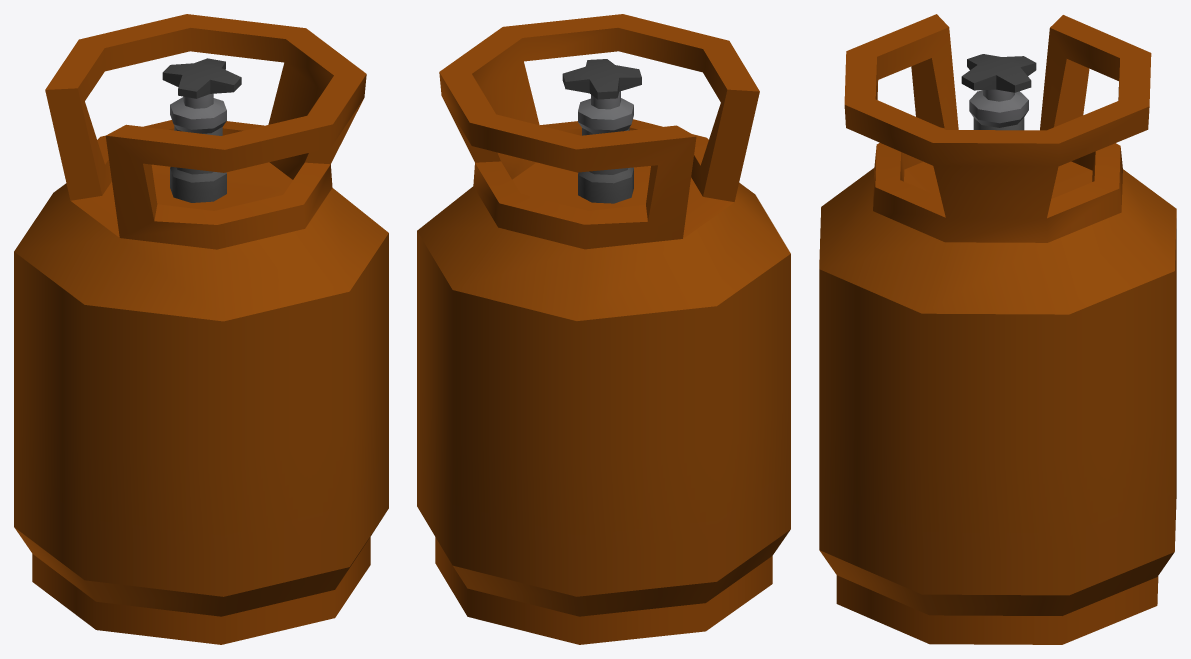
Rendered from GasCylinder_2_6.fbx.
The picture shows the model from 3 angles, left to right: view 1: azimuth 30°, elevation 25°; view 2: azimuth 150°, elevation 25°; view 3: azimuth 270°, elevation 25°; orthographic projection.
Parts seen in each view (by area): view 1: GasCylinder_2_6; view 2: GasCylinder_2_6; view 3: GasCylinder_2_6.
Part boxes in pixels (x1,y1,x2,y2): GasCylinder_2_6: [14, 14, 388, 644]; GasCylinder_2_6: [417, 14, 790, 644]; GasCylinder_2_6: [819, 14, 1176, 644].
Size of the model in its own units: 38.47 by 60.7 by 38.47.
